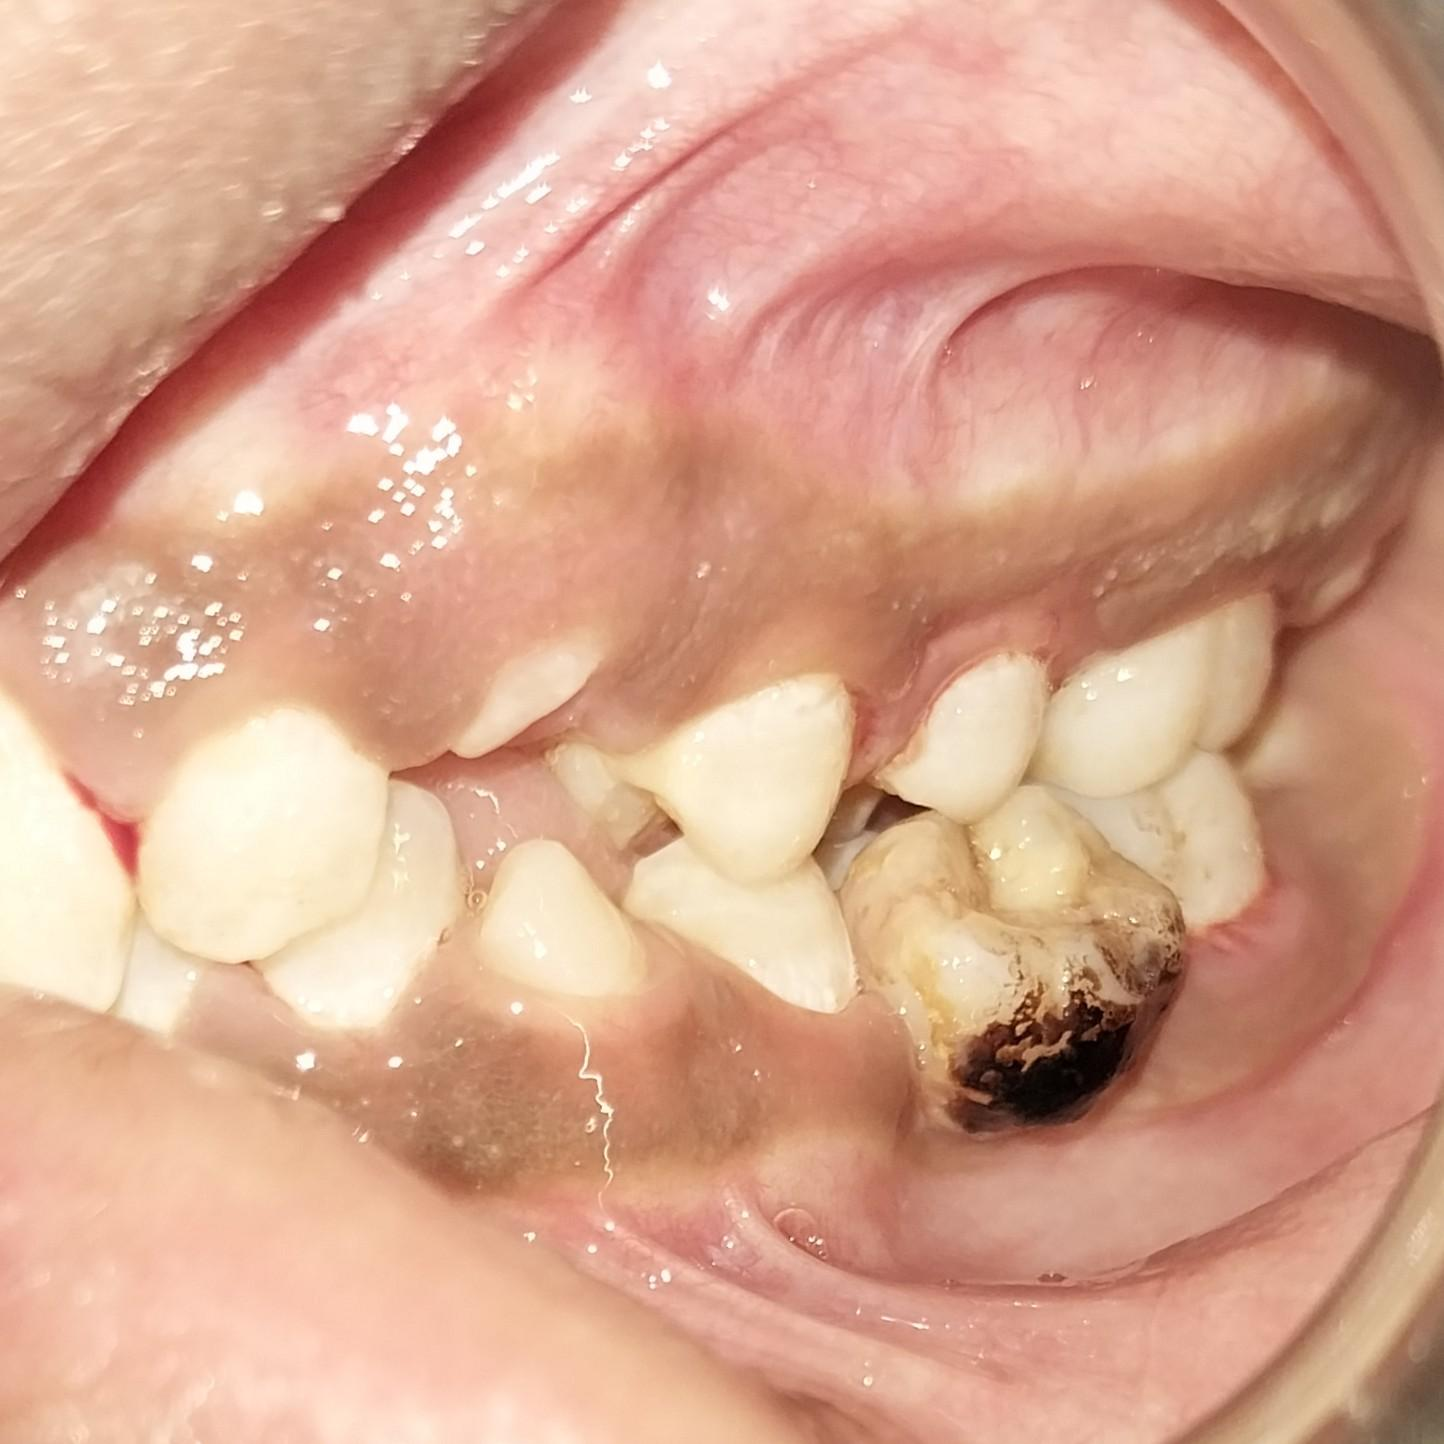d: (841, 794, 1185, 1140)
